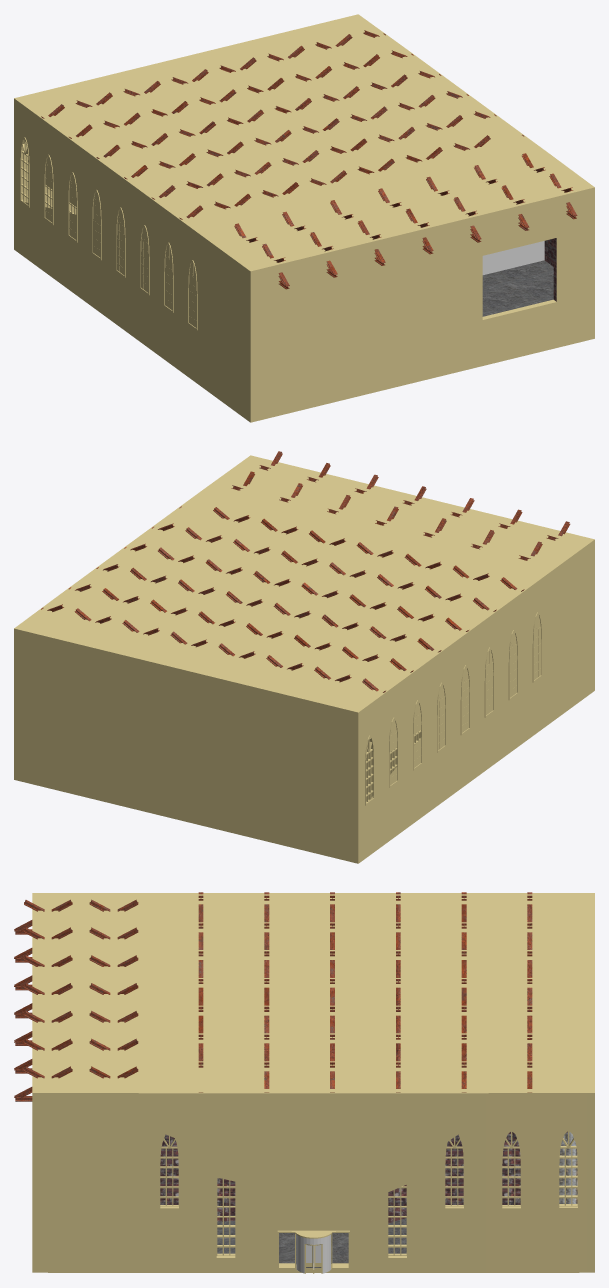
Rendered from HomeBox.fbx.
3 renders of one model, top to bottom at view 1: azimuth 30°, elevation 25°; view 2: azimuth 150°, elevation 25°; view 3: azimuth 270°, elevation 25°, orthographic. The views are drawn at different scales.
Visible parts, largest first — view 1: building, ibeam, ibeam.005; view 2: building, ibeam, ibeam.005; view 3: building, ibeam, ibeam.005, spinnydoorframe, spinny door glass.
Boxes of the visible parts, left/top/right/bottom form: building: left=14, top=14, right=594, bottom=422; ibeam: left=41, top=30, right=524, bottom=219; ibeam.005: left=234, top=153, right=577, bottom=289; building: left=14, top=455, right=594, bottom=863; ibeam: left=41, top=506, right=524, bottom=692; ibeam.005: left=231, top=451, right=570, bottom=560; building: left=32, top=893, right=594, bottom=1272; ibeam: left=198, top=892, right=532, bottom=1092; ibeam.005: left=14, top=899, right=138, bottom=1101; spinnydoorframe: left=277, top=1230, right=349, bottom=1273; spinny door glass: left=296, top=1234, right=330, bottom=1273.
Size of the model in its own units: 4476 by 1910 by 5300.
